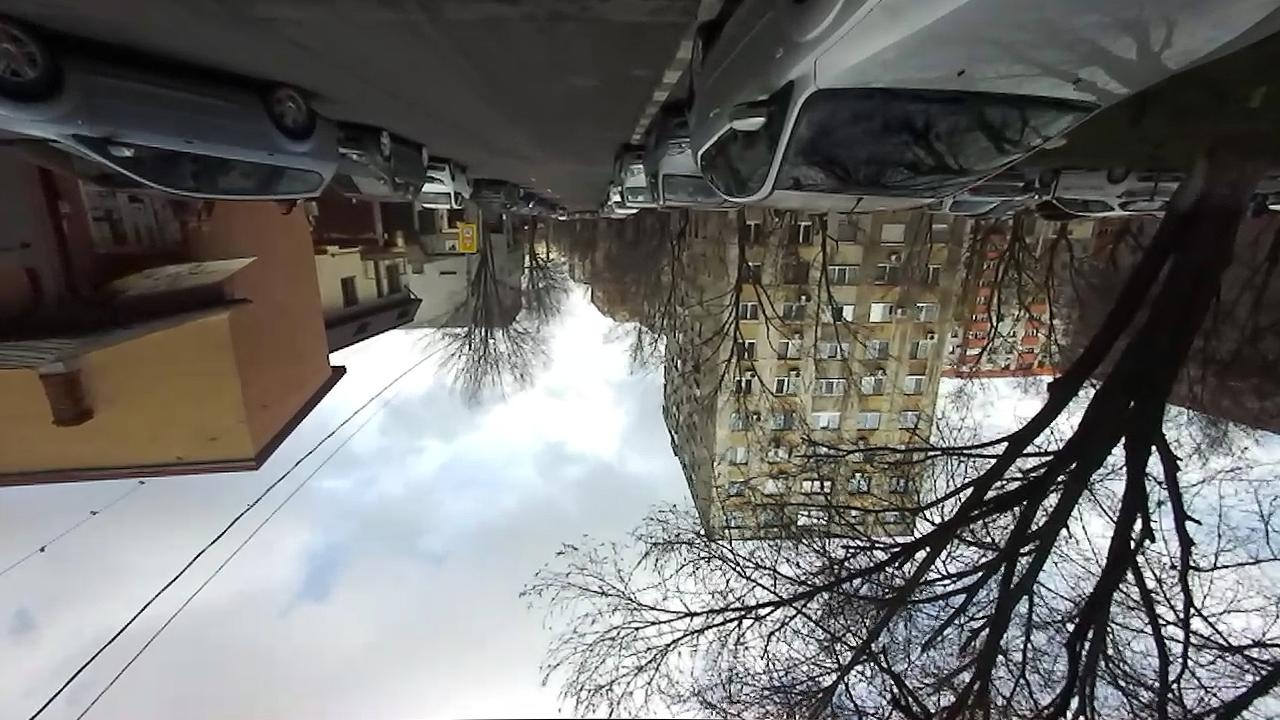pothole: (502, 0, 611, 30)
